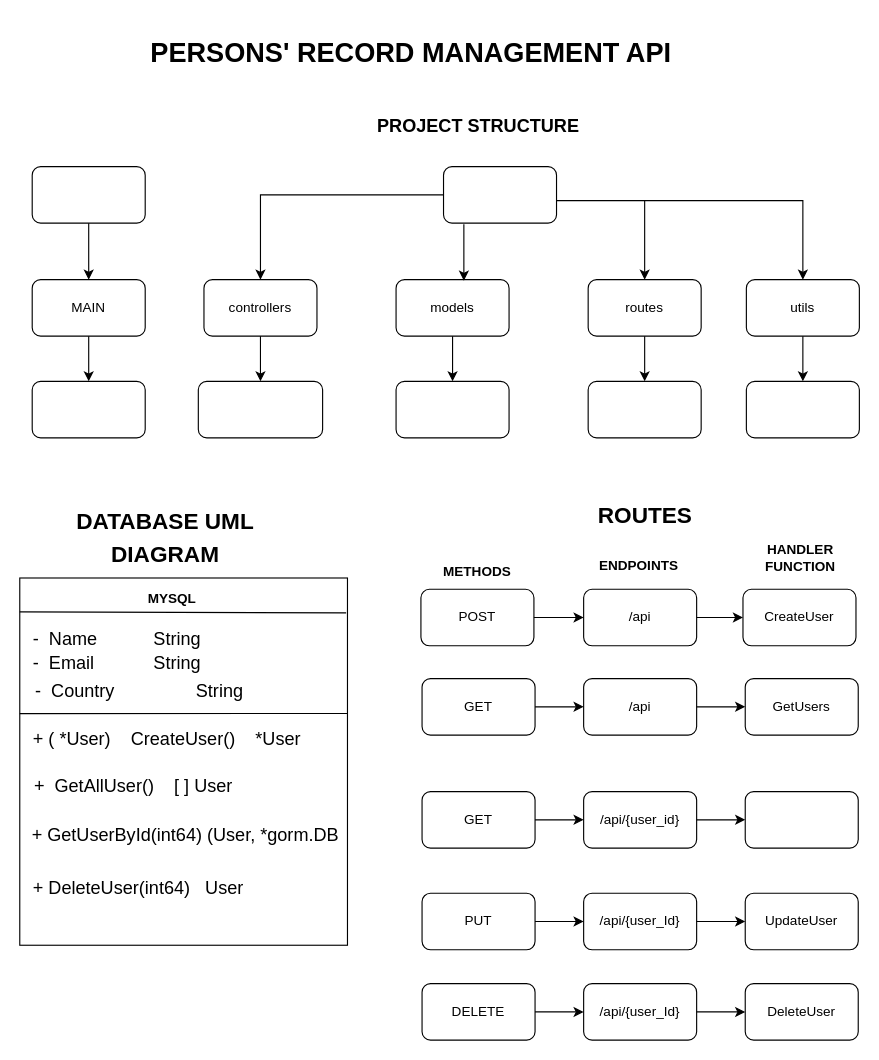
Some shapes in this 879 by 1060 pixel diagram are drawn without their labels. The centre of each missing label's shape, as x and y in pixels:
"cmd" belongs at point 88,194.
"GetUserById" belongs at point 801,819.
"Main.go" belongs at point 88,409.
"person-controller.go" belongs at point 260,409.
"person-route.go" belongs at point 644,409.
"person.go" belongs at point 452,409.
"pkg" belongs at point 499,194.
"util.go" belongs at point 802,409.
